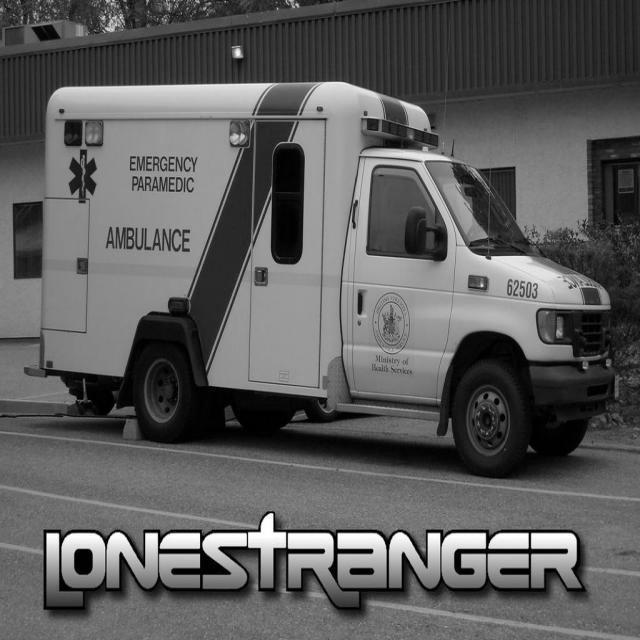Ambulance: (21, 82, 619, 480)
